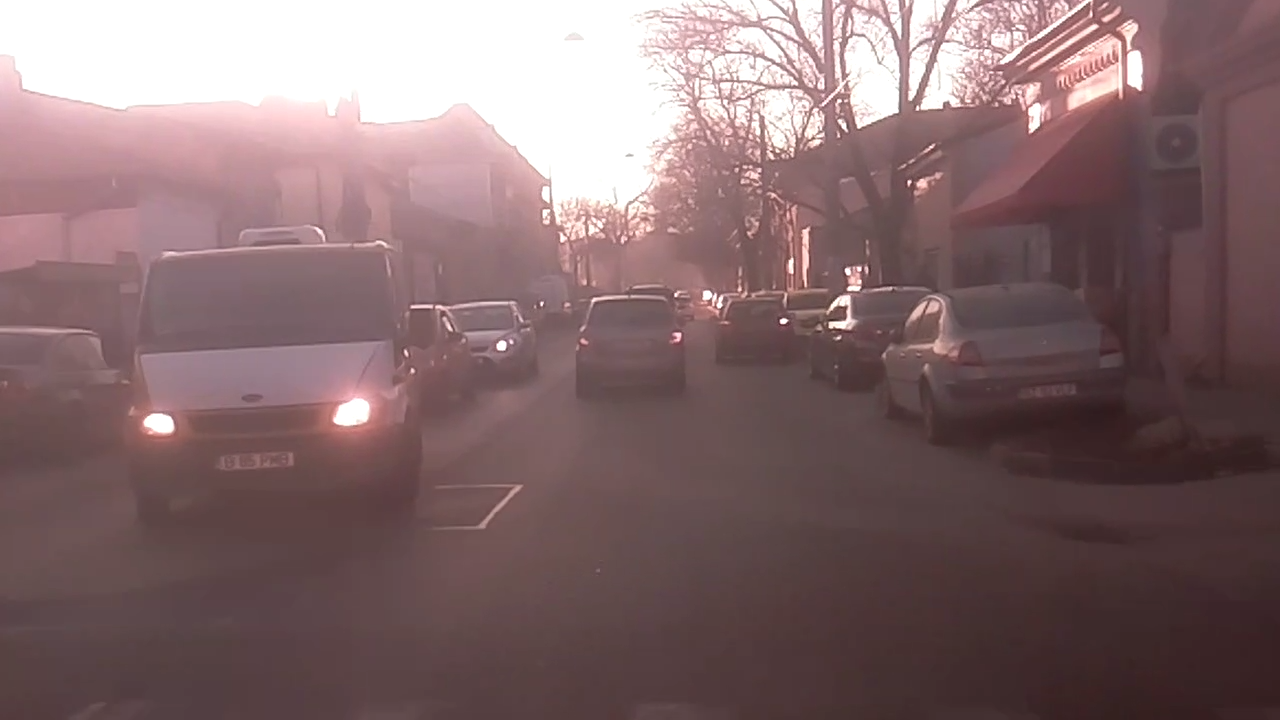license-plate: (210, 447, 297, 475)
